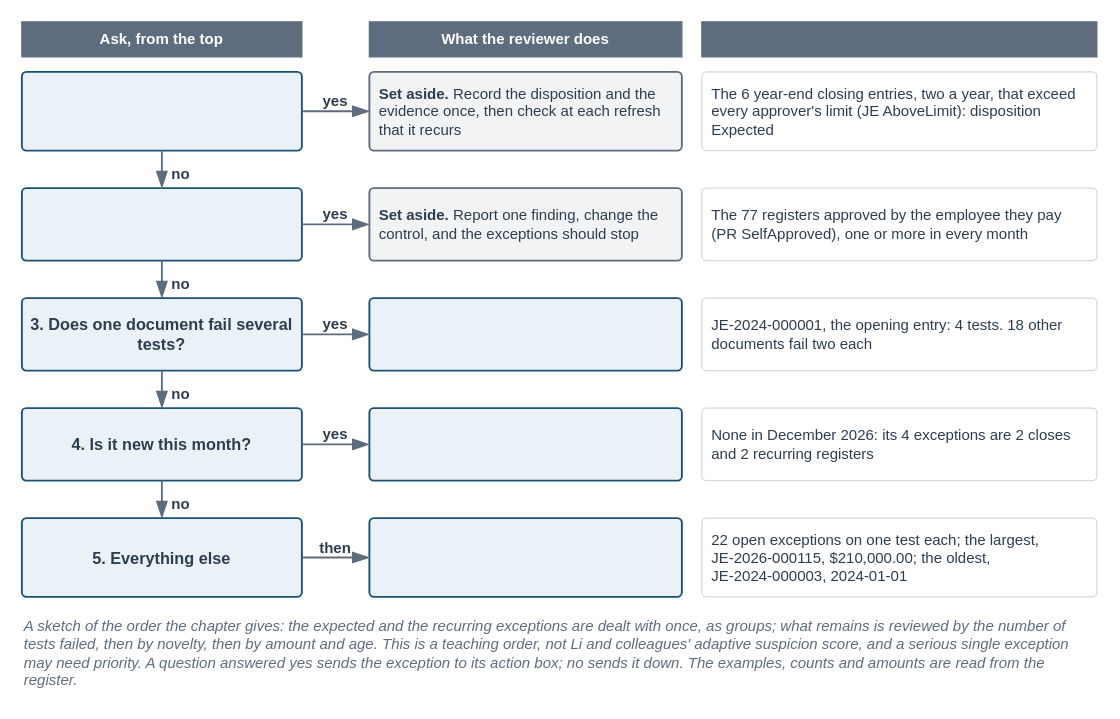
Some shapes in this 1120 by 719 pixel diagram are drawn without their labels. Here are the shapes that lost their labels. From the top down, the centre of each, then its label:
At (899,39): "An example from the register".
At (161,110): "1. Is it expected every period?".
At (161,224): "2. Does it recur because of the way a control is designed?".
At (525,334): "Use the score as a first cue. Materiality, age and urgency can override it".
At (525,444): "Review next. It arrives with no disposition".
At (525,557): "Review by amount and age. The larger and the older first".
